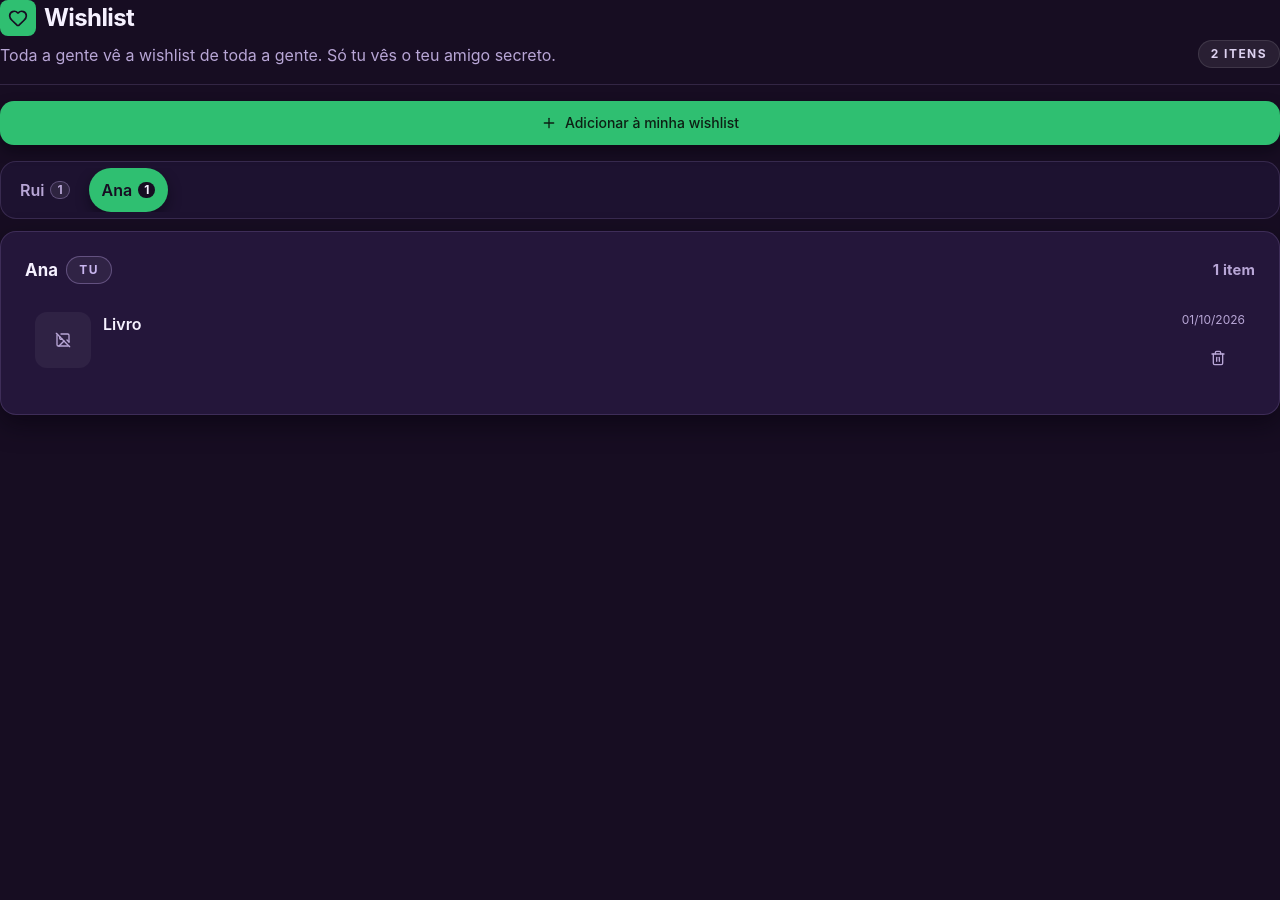
Scenario: CanhoesWishlistModule › warns when the item cannot be saved
The image size is (1280, 900).
Click the button "Adicionar à minha wishlist".
click(640, 123)  # box [0,101,1279,145]
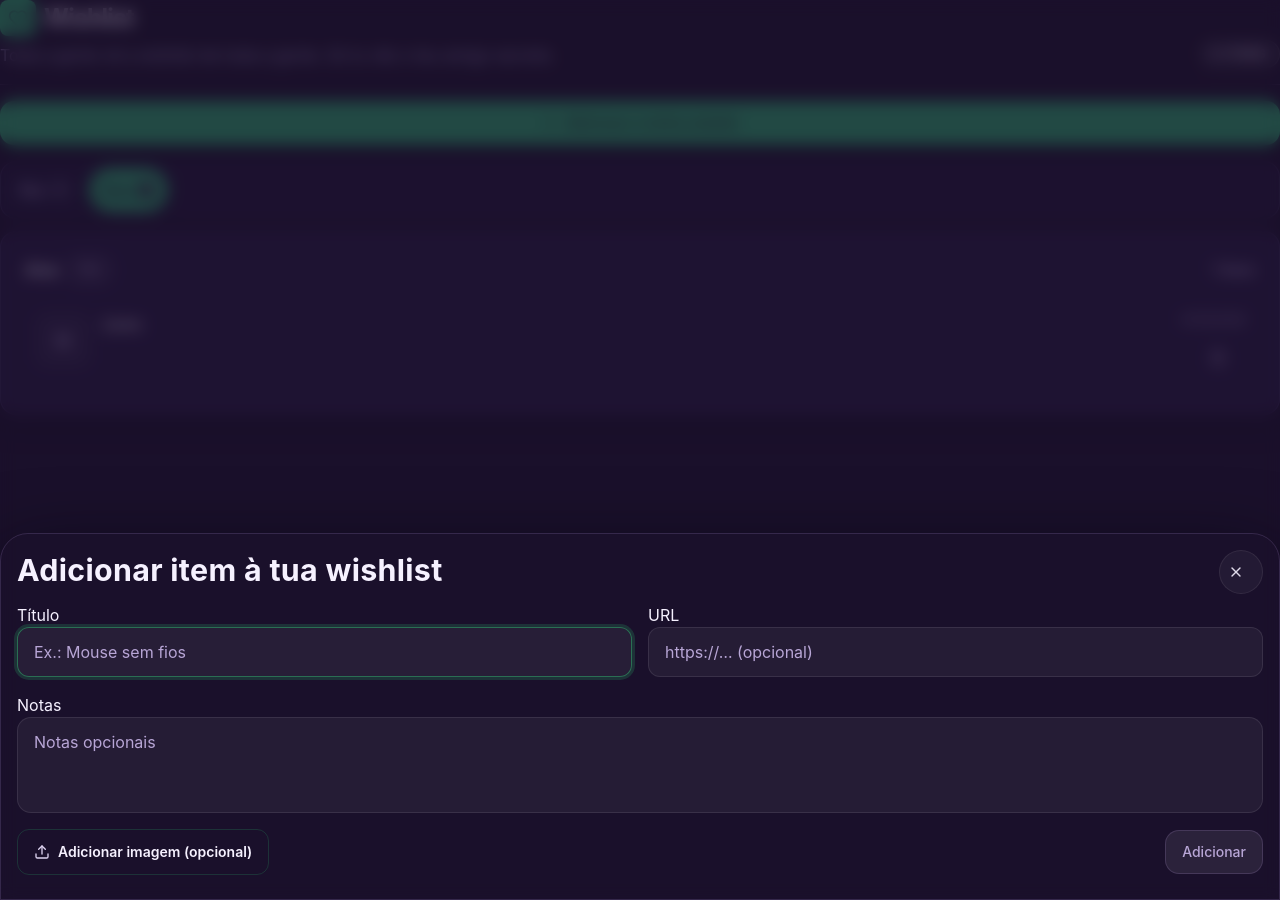
Type "Caneca" into the field labelled "Título".
click(324, 652); type("Caneca")  # box [17,627,632,677]
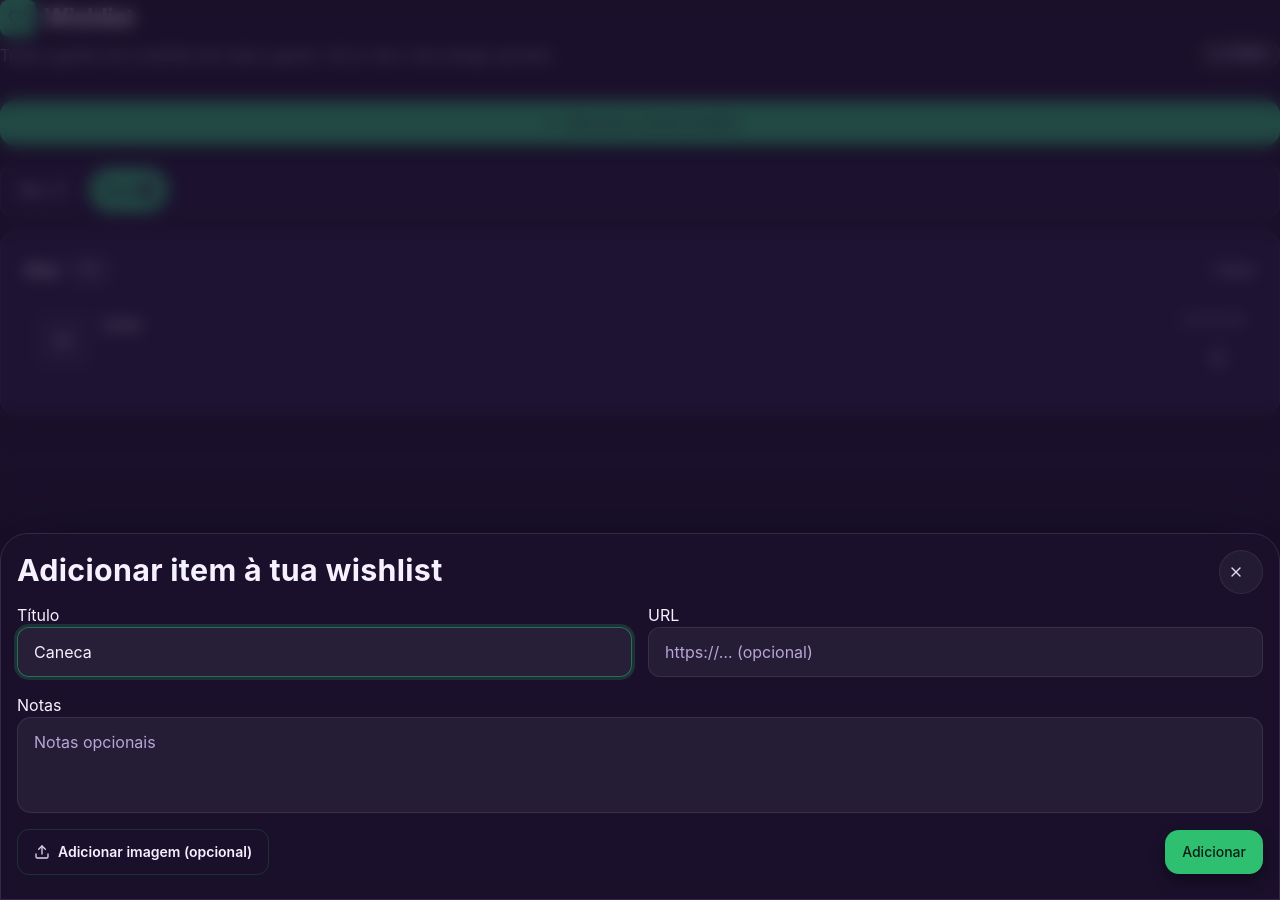
Click the button with aria-label "Adicionar item".
click(1214, 852)  # box [1165,830,1263,874]
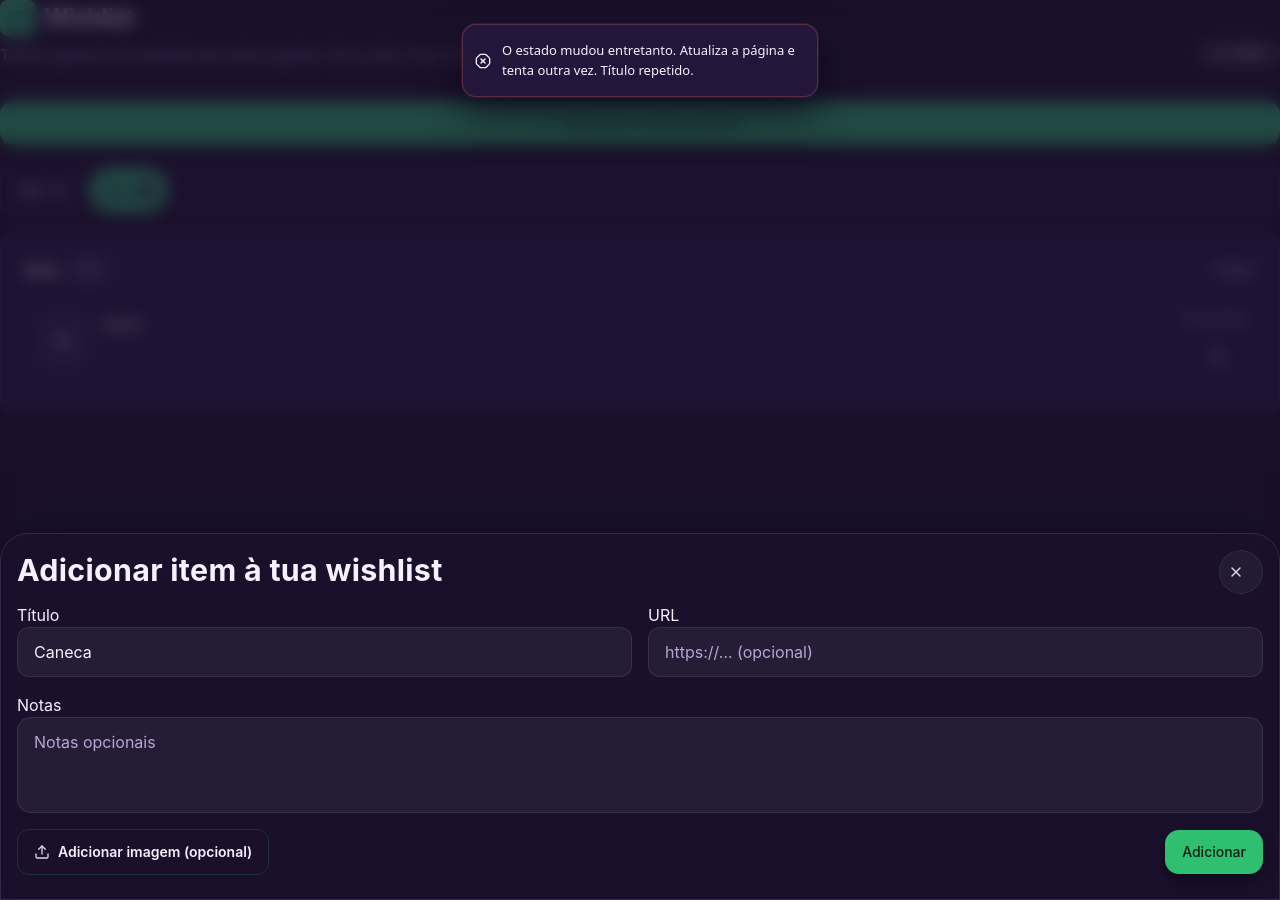
Expected: the text "Título repetido" is shown, [502,41,795,78]
